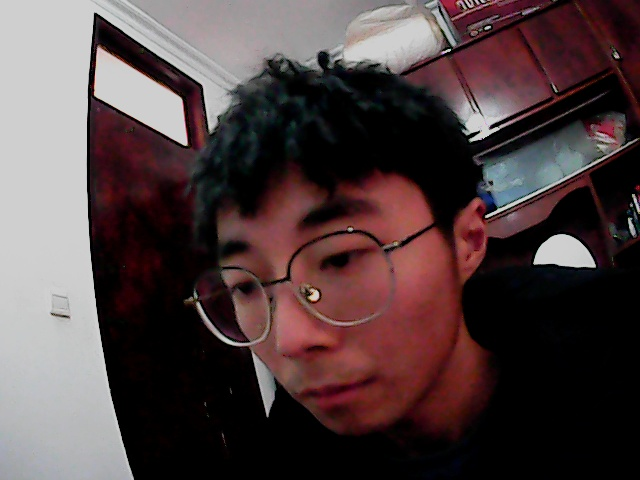face: (179, 51, 508, 437)
